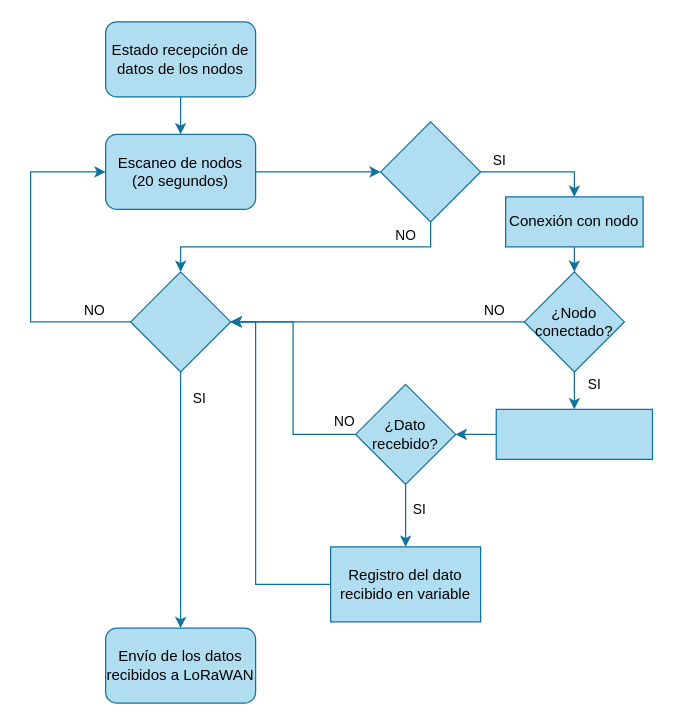
Some shapes in this 675 by 725 pixel diagram are drawn without their labels. Each missing label, with the centre of its shape:
Recepción del dato del nodo: the point at 573,433
¿Nodo encontrado?: the point at 430,171
¿Tiempo > 20 seg?: the point at 180,321
